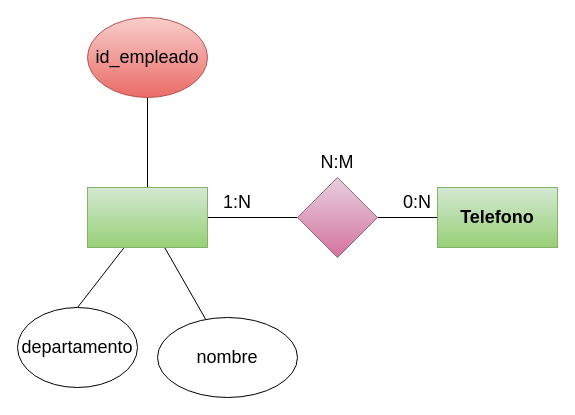
Image size: 575x415. Some labels were removed from this diagram. The centre of each missing label's shape, as x and y in pixels:
"Empleado" goes at point 147,217.
"Tiene" goes at point 337,217.
